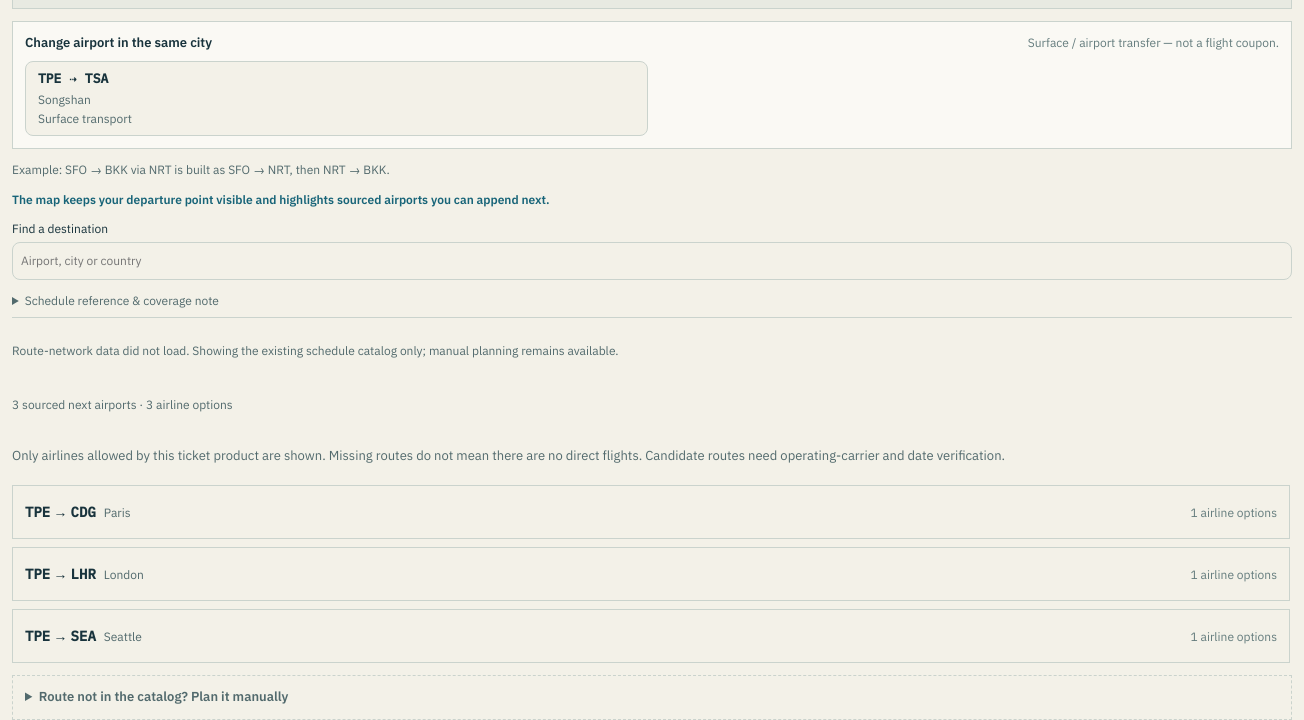
Test: DestinationsPanel · nonblocking next-leg workflow › makes a selected airport pair the primary card instead of leaving it in the middle of candidates
The width and height of the screenshot is (1304, 720).
(page scrolled)
What coordinates should you click on to do the following:
click the button "TPE → SEA Seattle 1 airline options"
I would click on:
 (123, 636)
Its box is [13,610,1289,662].
(page scrolled)
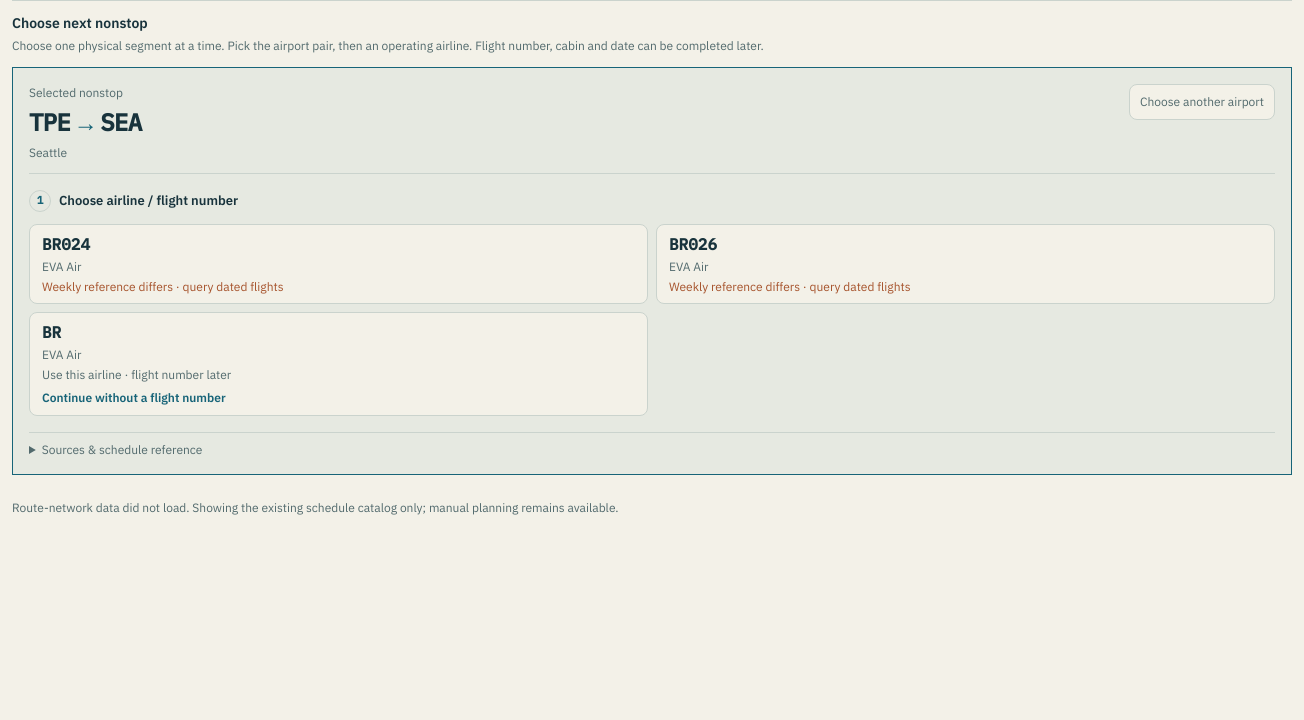
Result: the button "Choose another airport" is shown at [1129,84,1275,120]
